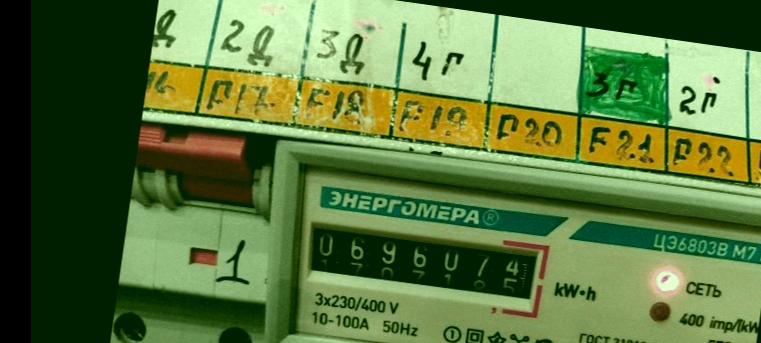0: (316, 229, 338, 257), (442, 244, 462, 272)
4: (504, 252, 523, 276)
5: (501, 274, 520, 297)
6: (410, 239, 432, 269), (348, 233, 369, 260)
7: (474, 249, 493, 277)
9: (379, 236, 399, 264)
screen: (293, 207, 555, 322)
